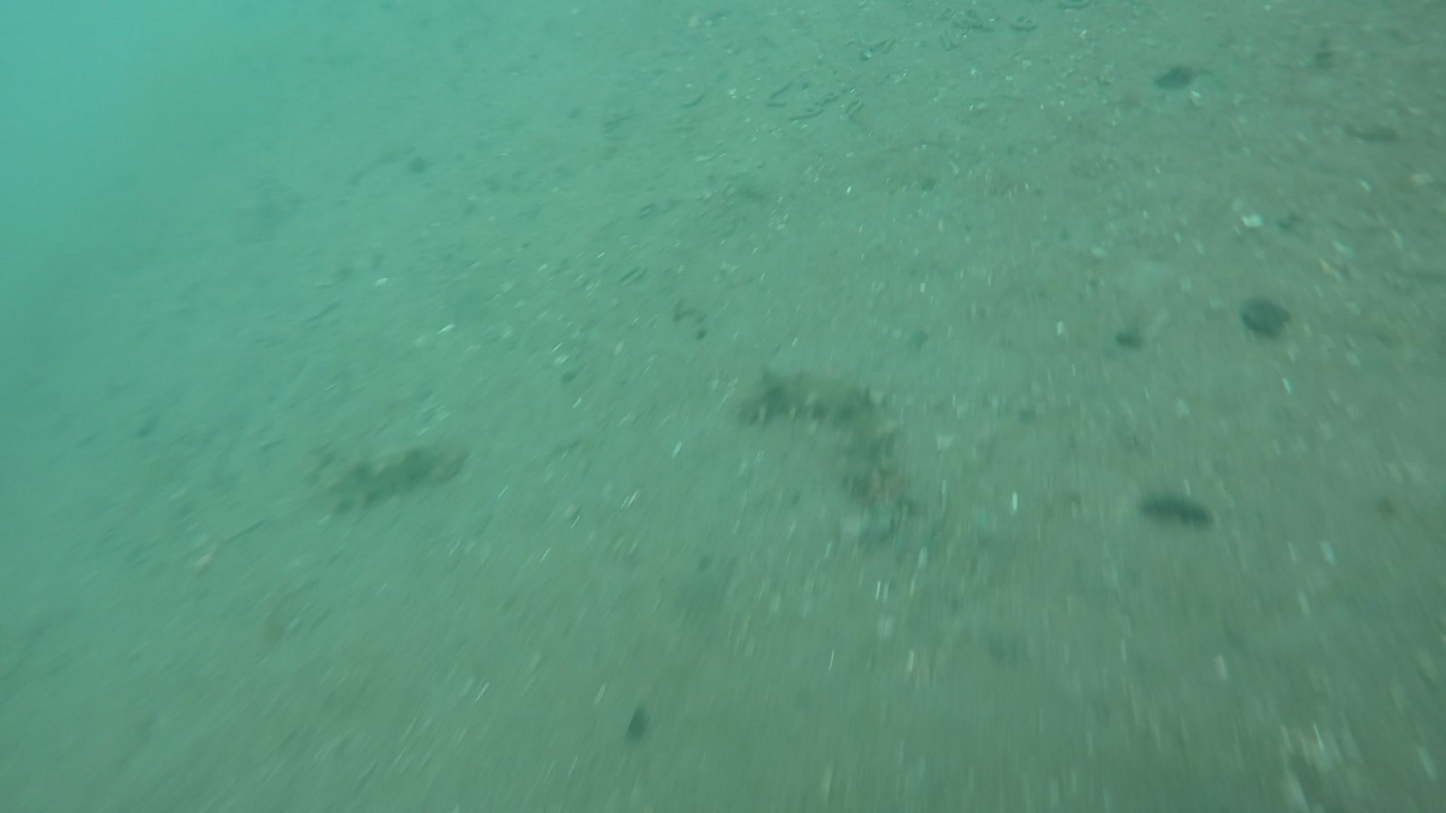echinus: (725, 373, 898, 495), (289, 437, 470, 519)
